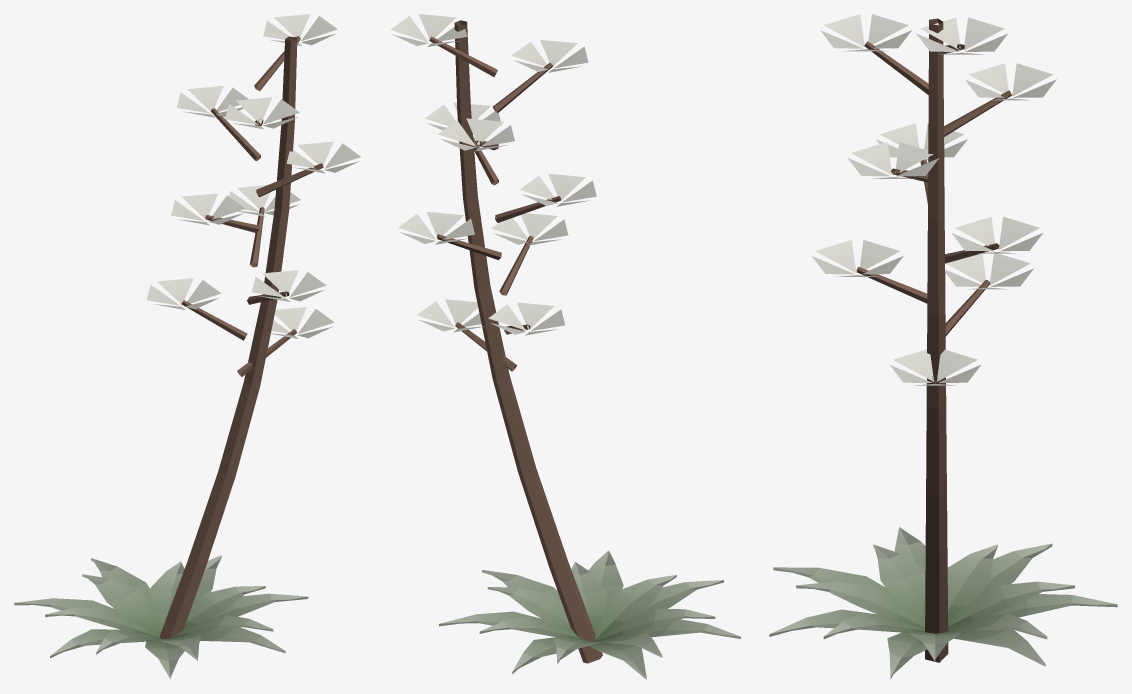
Rendered from skalnica-gronkowa.glb.
3 renders of one model, left to right at view 1: azimuth 30°, elevation 25°; view 2: azimuth 150°, elevation 25°; view 3: azimuth 270°, elevation 25°, orthographic. The views are drawn at different scales.
Parts seen in each view (by area): view 1: skalnica-gronkowa; view 2: skalnica-gronkowa; view 3: skalnica-gronkowa.
Part boxes in pixels (x1,y1,x2,y2): skalnica-gronkowa: (14,14,360,679); skalnica-gronkowa: (390,14,740,679); skalnica-gronkowa: (769,14,1117,679).
Size of the model in its own units: 0.0653 by 0.1208 by 0.0535.
